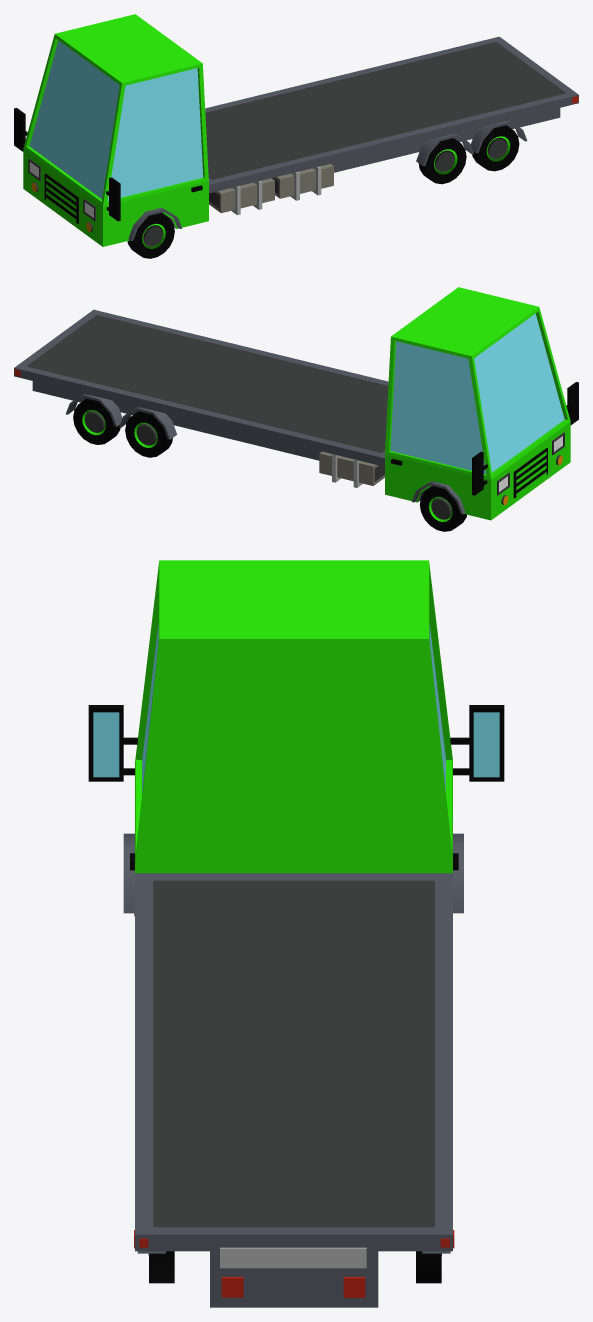
Rendered from car7A.FBX.
3 views of the same model, one above another, from view 1: azimuth 30°, elevation 25°; view 2: azimuth 150°, elevation 25°; view 3: azimuth 270°, elevation 25° (orthographic). The views are drawn at different scales.
Parts seen in each view (by area): view 1: car7A; view 2: car7A; view 3: car7A.
Boxes of the visible parts, <box> form: car7A: <box>14,14,578,258</box>; car7A: <box>14,287,578,531</box>; car7A: <box>88,560,504,1307</box>.
Size of the model in its own units: 17.4 by 6.13 by 6.53.
